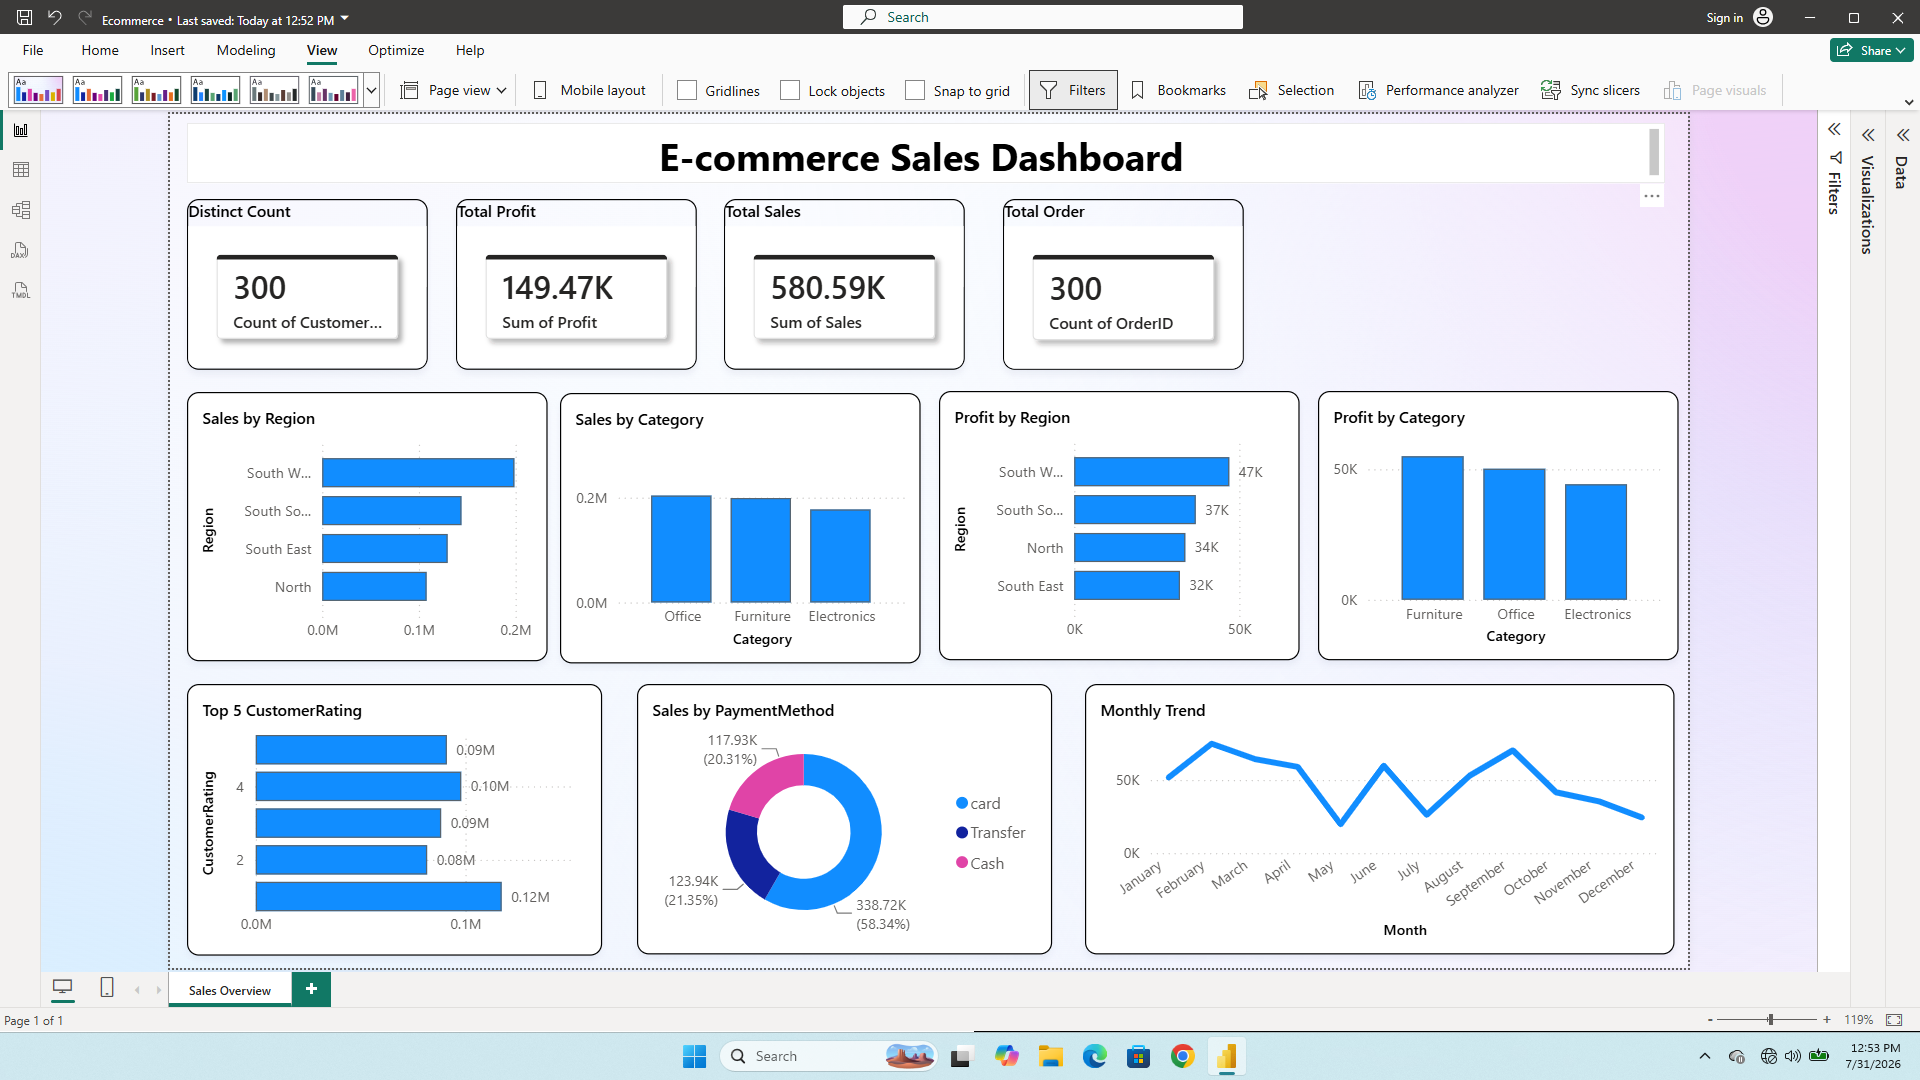

What the dashboard file says about the page in this screenshot:
{"tool":"powerbi","page":{"name":"Sales Overview","canvas":[1280,720],"ordinal":0},"visuals":[{"type":"cardVisual","title":"Distinct Count","fields":{"Data":["CountNonNull(Ecommerce_Messy_Dataset_300_Rows.CustomerName)"]},"box":[14.6,72,203.3,144],"z":0},{"type":"cardVisual","title":"Total Profit","fields":{"Data":["Sum(Ecommerce_Messy_Dataset_300_Rows.Profit)"]},"box":[241.2,72,203.3,144],"z":1000},{"type":"cardVisual","title":"Total Sales","fields":{"Data":["Sum(Ecommerce_Messy_Dataset_300_Rows.Sales)"]},"box":[466.9,72,203.3,144],"z":2000},{"type":"cardVisual","title":"Total Order","fields":{"Data":["CountNonNull(Ecommerce_Messy_Dataset_300_Rows.OrderID)"]},"box":[702.2,72,203.3,144],"z":3000},{"type":"barChart","title":"Sales by Region","fields":{"Category":["Ecommerce_Messy_Dataset_300_Rows.Region"],"Y":["Sum(Ecommerce_Messy_Dataset_300_Rows.Sales)"]},"box":[14.6,234.4,304,227],"z":4000},{"type":"columnChart","title":"Sales by Category","fields":{"Y":["Sum(Ecommerce_Messy_Dataset_300_Rows.Sales)"],"Category":["Ecommerce_Messy_Dataset_300_Rows.Category"]},"box":[328.8,235.4,304.4,227.6],"z":5000},{"type":"clusteredBarChart","title":"Top 5 CustomerRating","fields":{"Category":["Ecommerce_Messy_Dataset_300_Rows.CustomerRating"],"Y":["Sum(Ecommerce_Messy_Dataset_300_Rows.Sales)"]},"box":[14.6,480.5,350.2,228.6],"z":6000},{"type":"columnChart","title":"Profit by Category","fields":{"Y":["Sum(Ecommerce_Messy_Dataset_300_Rows.Profit)"],"Category":["Ecommerce_Messy_Dataset_300_Rows.Category"]},"box":[967.8,233.4,304,227],"z":6001},{"type":"donutChart","title":"Sales by PaymentMethod","fields":{"Category":["Ecommerce_Messy_Dataset_300_Rows.PaymentMethod"],"Y":["Sum(Ecommerce_Messy_Dataset_300_Rows.Sales)"]},"box":[393.9,480.5,350.2,227.6],"z":6002},{"type":"lineChart","title":" Monthly Trend","fields":{"Category":["Ecommerce_Messy_Dataset_300_Rows.OrderDate.Variation.Date Hierarchy.Month"],"Y":["Sum(Ecommerce_Messy_Dataset_300_Rows.Sales)"]},"box":[771.3,480.5,497,227.6],"z":6003},{"type":"barChart","title":" Profit by Region","fields":{"Category":["Ecommerce_Messy_Dataset_300_Rows.Region"],"Y":["Sum(Ecommerce_Messy_Dataset_300_Rows.Profit)"]},"box":[648.8,233.4,304,227],"z":6004},{"type":"textbox","box":[14.6,7.8,1246,50.6],"z":6005}]}

Visuals, with their boxes on the page's 1280x720 design canvas (x1, y1, x2, y2). These are canvas units, not pixel positions in the 1920x1080 screenshot, which may show the page scaled, cropped or inside an application window:
"Distinct Count" cardVisual: <region>15, 72, 218, 216</region>
"Total Profit" cardVisual: <region>241, 72, 444, 216</region>
"Total Sales" cardVisual: <region>467, 72, 670, 216</region>
"Total Order" cardVisual: <region>702, 72, 906, 216</region>
"Sales by Region" barChart: <region>15, 234, 319, 461</region>
"Sales by Category" columnChart: <region>329, 235, 633, 463</region>
"Top 5 CustomerRating" clusteredBarChart: <region>15, 480, 365, 709</region>
"Profit by Category" columnChart: <region>968, 233, 1272, 460</region>
"Sales by PaymentMethod" donutChart: <region>394, 480, 744, 708</region>
" Monthly Trend" lineChart: <region>771, 480, 1268, 708</region>
" Profit by Region" barChart: <region>649, 233, 953, 460</region>
textbox: <region>15, 8, 1261, 58</region>
